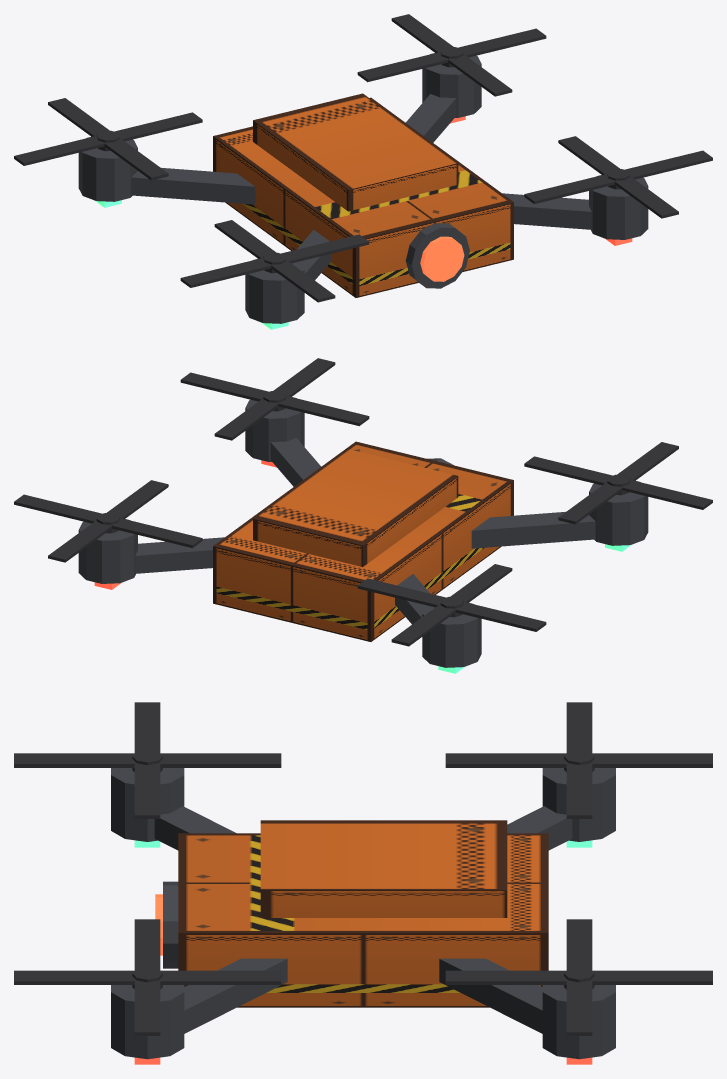
File: drone.glb
3 renders of one model, top to bottom at view 1: azimuth 30°, elevation 25°; view 2: azimuth 150°, elevation 25°; view 3: azimuth 270°, elevation 25°, orthographic. The views are drawn at different scales.
Parts seen in each view (by area): view 1: Body, Frame, RotorFR, RotorBL, RotorFL, RotorBR, Eye; view 2: Body, Frame, RotorBR, RotorFL, RotorBL, RotorFR; view 3: Body, Frame, RotorFR, RotorBR, RotorFL, RotorBL, Lights.
Part boxes in pixels (x1,y1,x2,y2): Body: (213,93,513,297); Frame: (78,53,648,323); RotorFR: (180,220,369,302); RotorBL: (357,14,546,96); RotorFL: (524,136,712,218); RotorBR: (14,98,202,180); Eye: (420,236,464,281); Body: (213,441,513,641); Frame: (78,397,648,667); RotorBR: (357,564,546,646); RotorFL: (180,358,369,440); RotorBL: (14,480,202,562); RotorFR: (524,442,712,524); Body: (178,820,548,1007); Frame: (111,768,615,1059); RotorFR: (14,702,281,818); RotorBR: (445,702,712,818); RotorFL: (14,919,281,1035); RotorBL: (445,919,712,1035); Lights: (134,840,592,1064).
Bounding box in the file's own units: 1.52 × 0.235 × 1.36.
6 materials, 1 textured.
